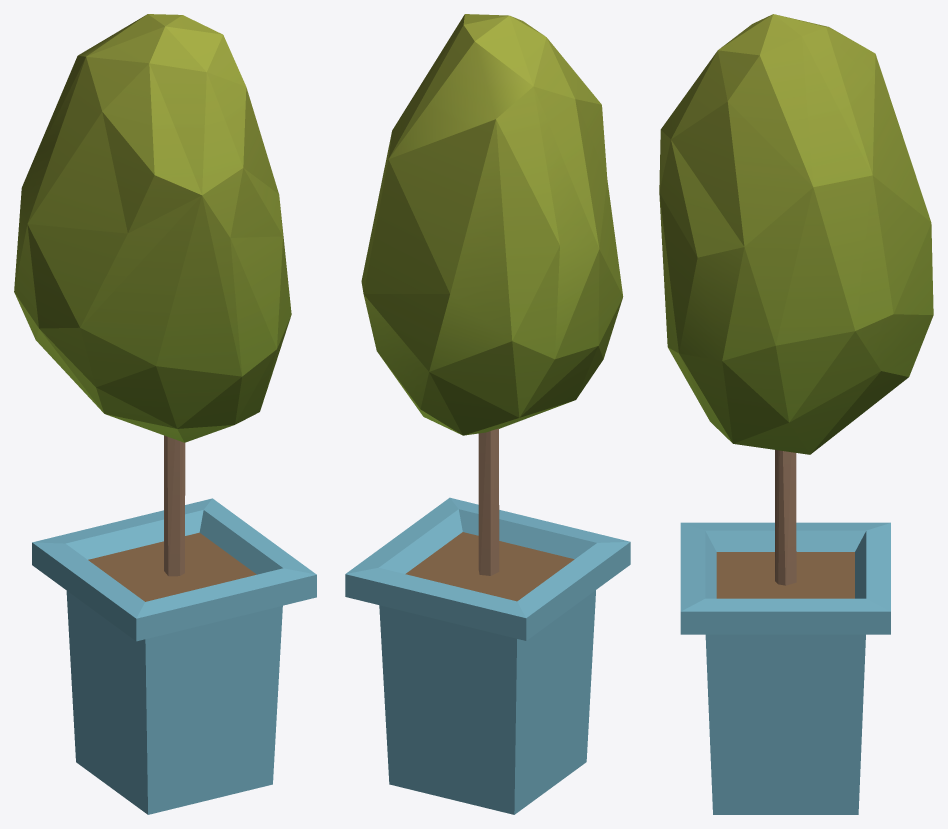
The model's file is Pot_06.fbx.
The picture shows the model from 3 angles, left to right: view 1: azimuth 30°, elevation 25°; view 2: azimuth 150°, elevation 25°; view 3: azimuth 270°, elevation 25°; orthographic projection.
Parts seen in each view (by area): view 1: Pot_06; view 2: Pot_06; view 3: Pot_06.
Boxes of the visible parts, x1=… form: Pot_06: x1=14, y1=14, x2=316, y2=814; Pot_06: x1=345, y1=14, x2=630, y2=814; Pot_06: x1=659, y1=14, x2=933, y2=814.
Size of the model in its own units: 39.28 by 125 by 40.78.
